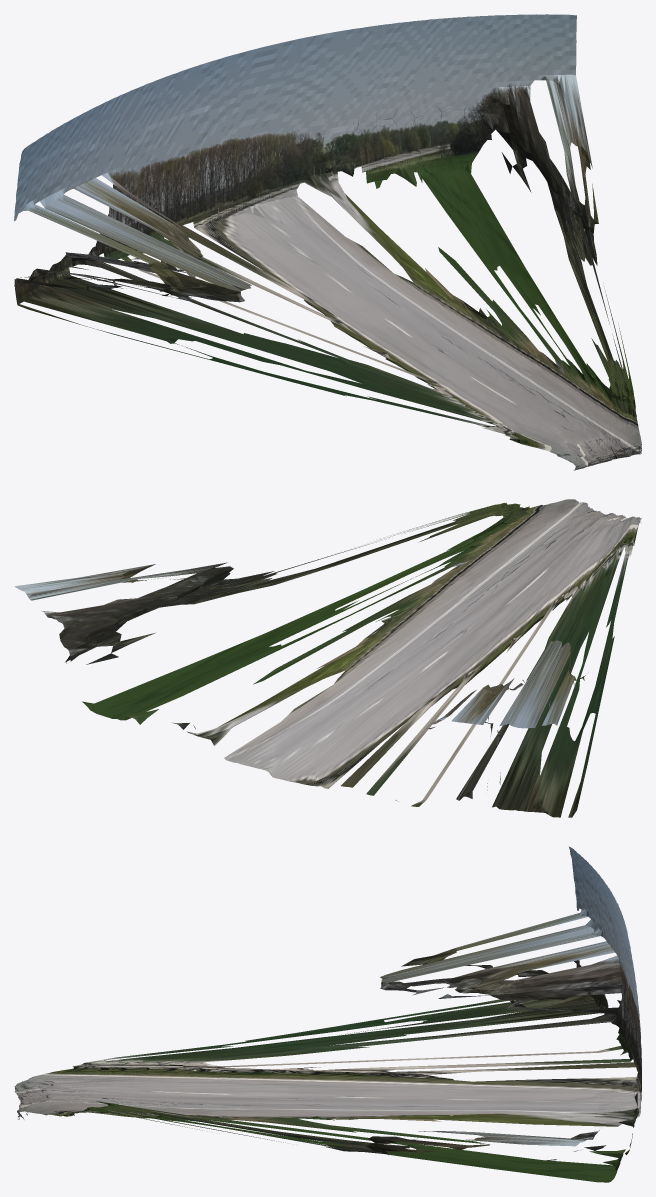
3 views of the same model, one above another, from view 1: azimuth 30°, elevation 25°; view 2: azimuth 150°, elevation 25°; view 3: azimuth 270°, elevation 25° (orthographic). The views are drawn at different scales.
Visible parts, largest first — view 1: defaultobject; view 2: defaultobject; view 3: defaultobject.
Boxes of the visible parts, x1,y1,x2,y2 form: defaultobject: (14,14,641,470); defaultobject: (15,499,641,817); defaultobject: (14,846,641,1182).
Bounding box in the file's own units: 41.02 × 12.29 × 44.43.
Materials: 1 (1 with a texture image).
